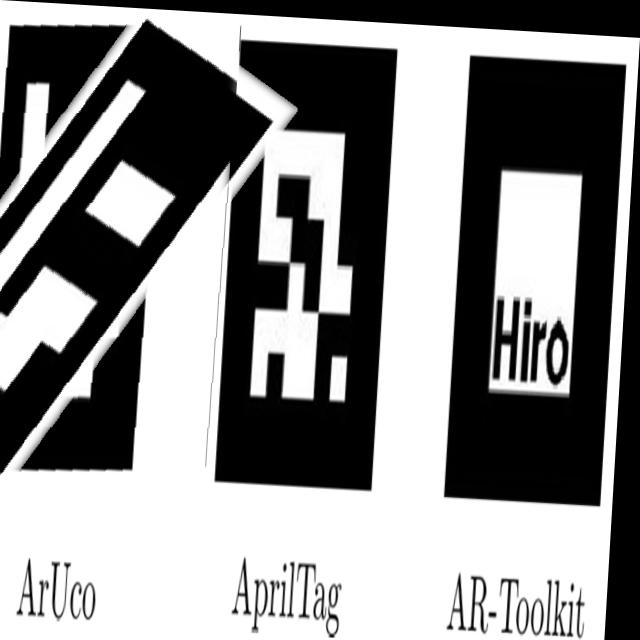aruco: (0, 0, 243, 512)
